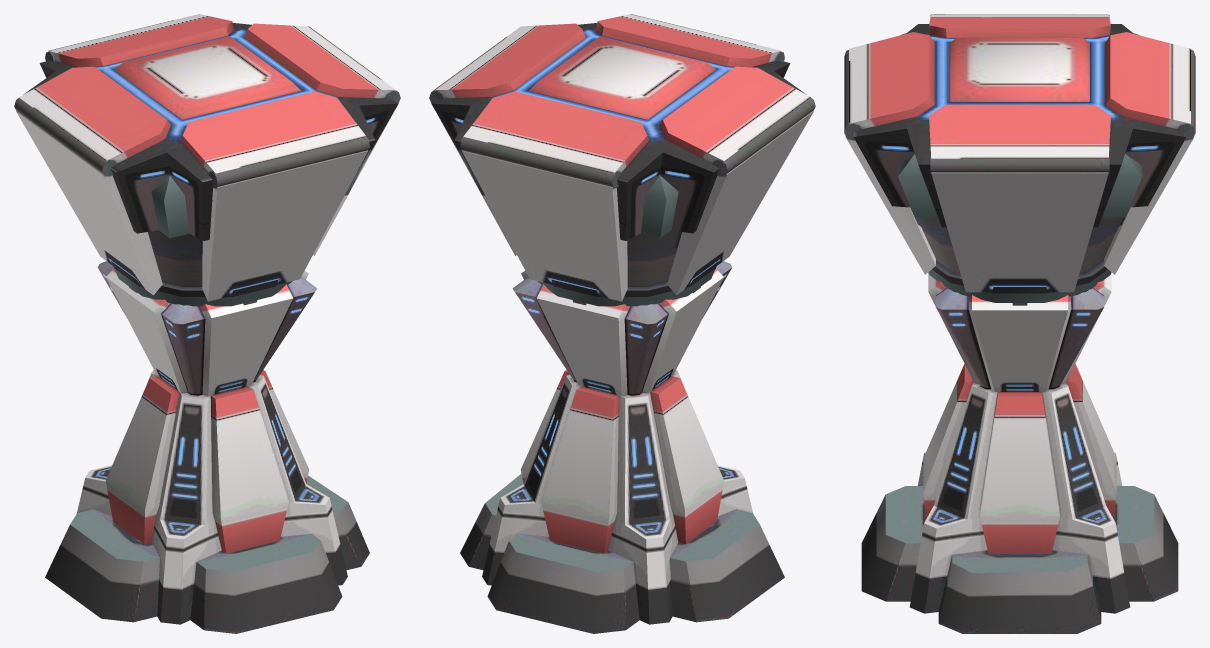
The picture shows the model from 3 angles, left to right: view 1: azimuth 30°, elevation 25°; view 2: azimuth 150°, elevation 25°; view 3: azimuth 270°, elevation 25°; orthographic projection.
Visible parts, largest first — view 1: orbital-substation; view 2: orbital-substation; view 3: orbital-substation.
Part boxes in pixels (left/top/right/bottom): orbital-substation: left=14, top=14, right=400, bottom=633; orbital-substation: left=429, top=14, right=815, bottom=633; orbital-substation: left=844, top=14, right=1195, bottom=633.
Bounding box in the file's own units: 4.23 × 6.68 × 4.23.
1 material, 1 textured.
